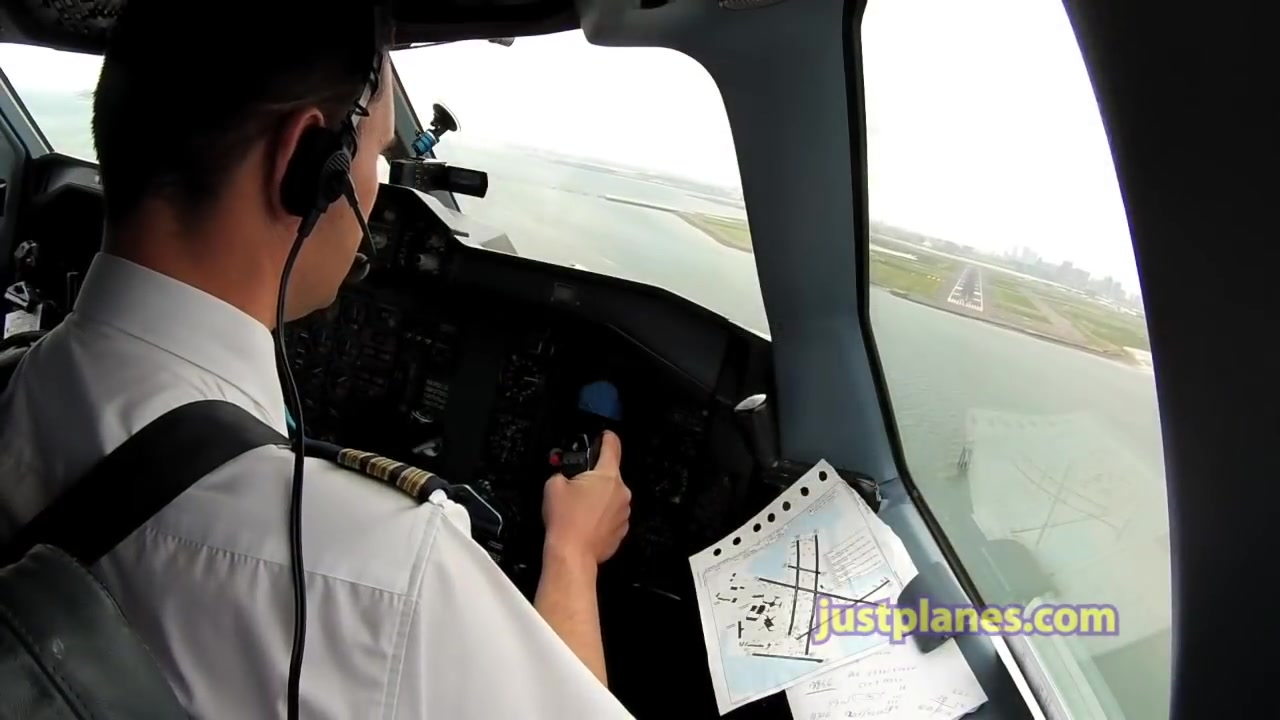entrance: (948, 296, 982, 310)
runway: (948, 264, 984, 314)
